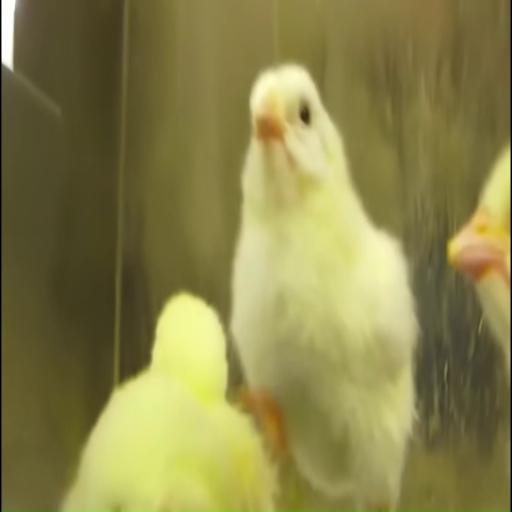chick: (231, 65, 417, 510), (62, 294, 276, 511), (448, 144, 510, 379)
